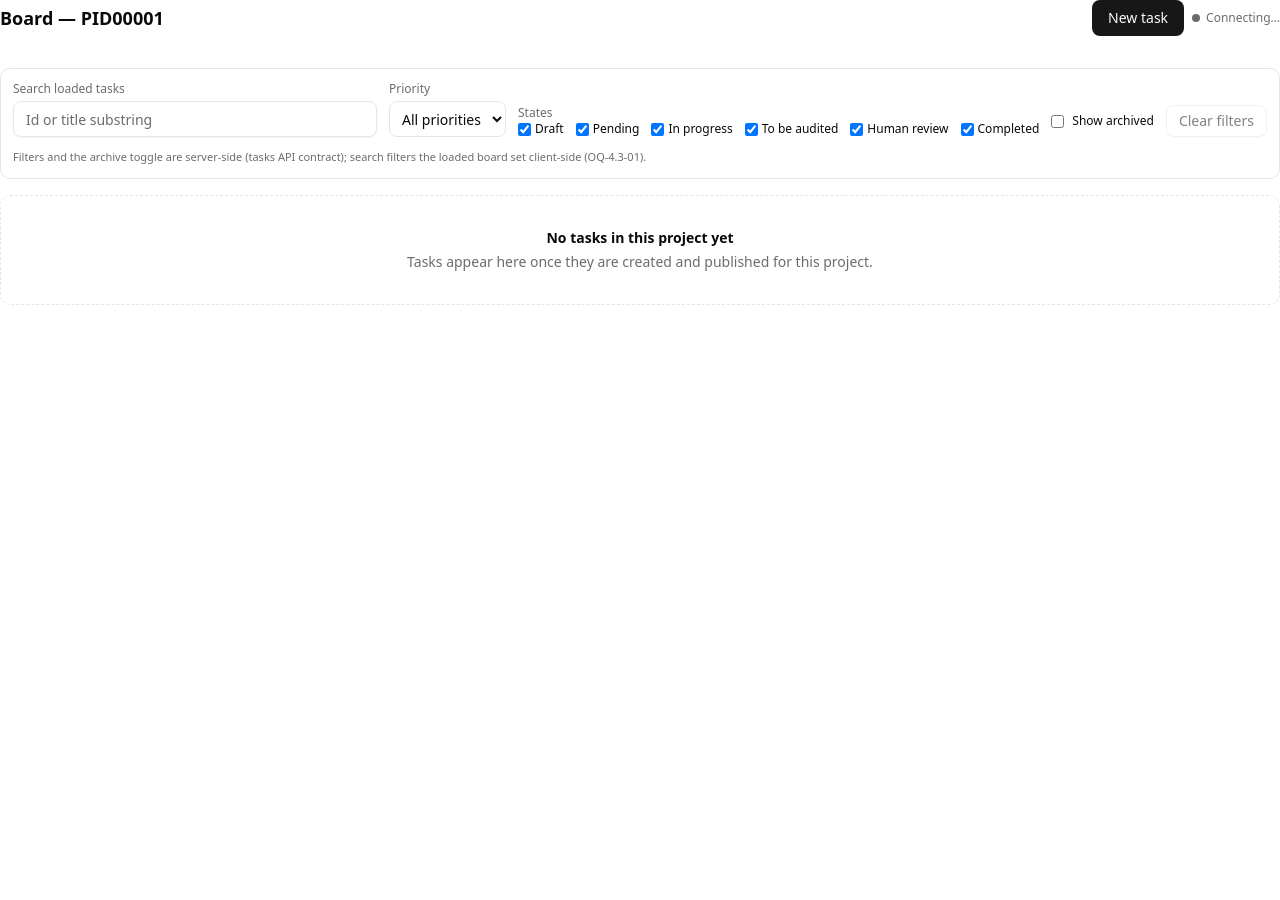
it: task-form-modal › exposes the full Section 13.2 field set as a wired scaffold
Click the button with test id "board-new-task" at [1138, 18], box [1092,0,1184,36]
(page scrolled)
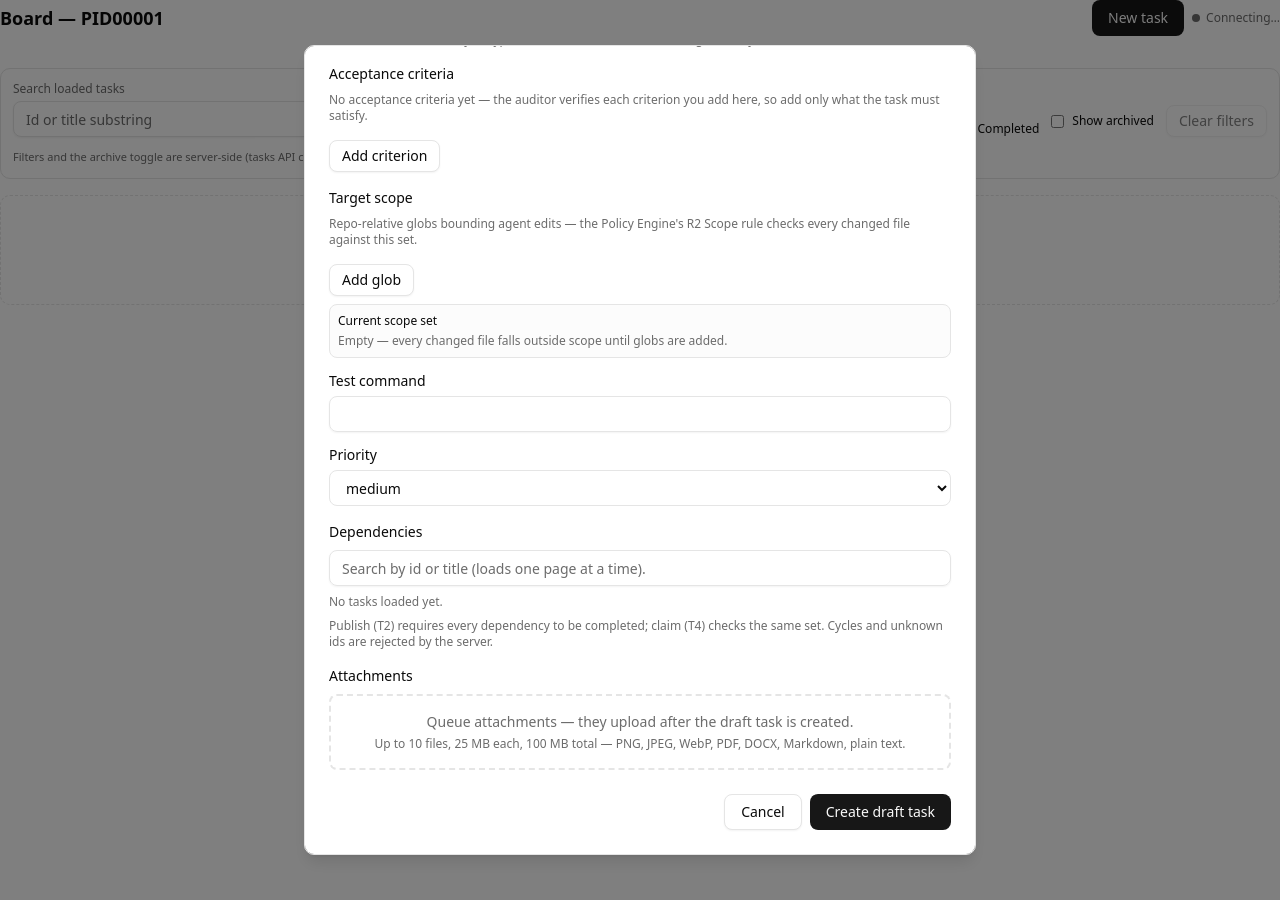
Expected: the dialog with test id "task-form-modal" is shown, [304,45,976,855]
Expected: the field labelled "Test command" is shown, [329,396,951,432]
Expected: the dropdown labelled "Priority" is shown, [329,470,951,506]
